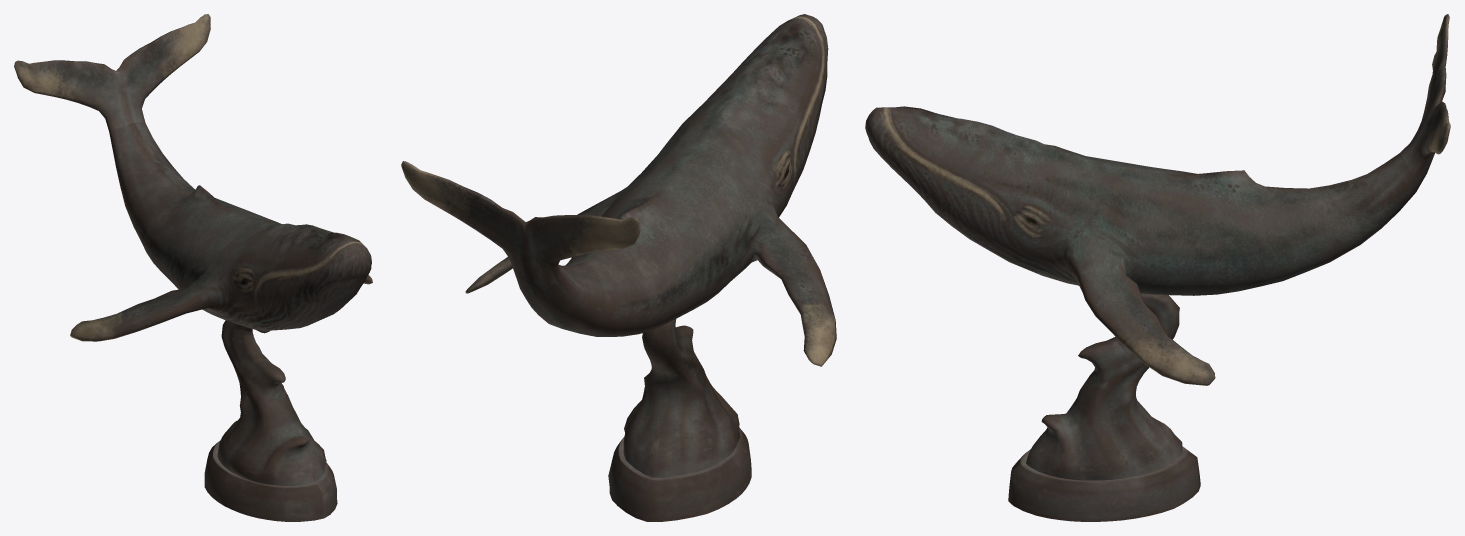
Rendered from bronze_whale_statue.glb.
The picture shows the model from 3 angles, left to right: view 1: azimuth 30°, elevation 25°; view 2: azimuth 150°, elevation 25°; view 3: azimuth 270°, elevation 25°; orthographic projection. The views are drawn at different scales.
Visible parts, largest first — view 1: bronze_whale_statue; view 2: bronze_whale_statue; view 3: bronze_whale_statue.
Part boxes in pixels (left/top/right/bottom): bronze_whale_statue: left=14, top=14, right=372, bottom=521; bronze_whale_statue: left=401, top=14, right=836, bottom=521; bronze_whale_statue: left=865, top=14, right=1450, bottom=521.
Size of the model in its own units: 0.932 by 1.07 by 1.37.
Materials: 1 (1 with a texture image).
